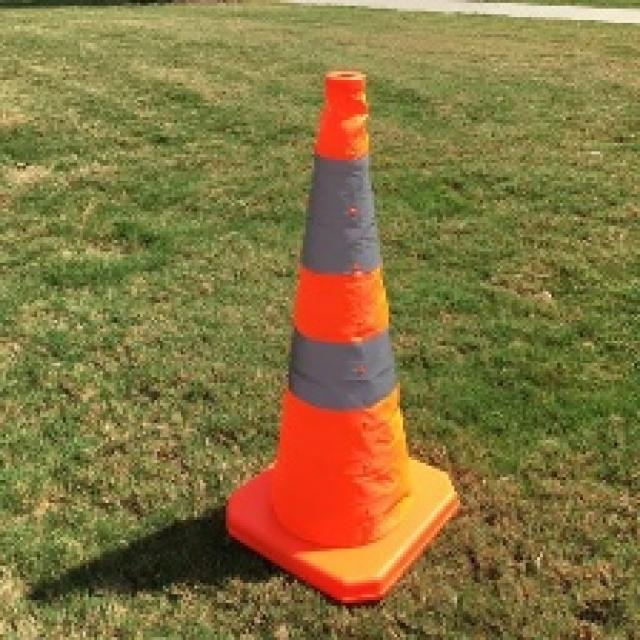traffic cone: (224, 70, 457, 606)
